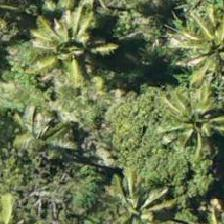coconut_tree: (28, 4, 118, 94), (1, 81, 91, 171), (153, 72, 223, 162), (91, 163, 181, 223), (174, 2, 223, 92)
